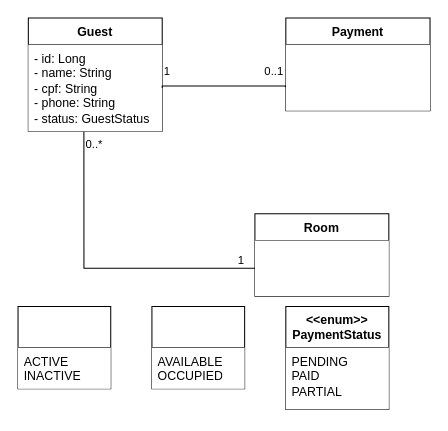
Image size: 448x431. Some labels were removed from this diagram. Each missing label, with the box of its shape:
- id: Long - amount: Double - date: LocalDate - status: Payment Status: (285, 44, 430, 110)
- id: Long - number: Integer - status: Room Status: (254, 240, 388, 296)
<<enum>> GuestStatus: (17, 305, 111, 389)
<<enum>> RoomStatus: (151, 305, 245, 389)
